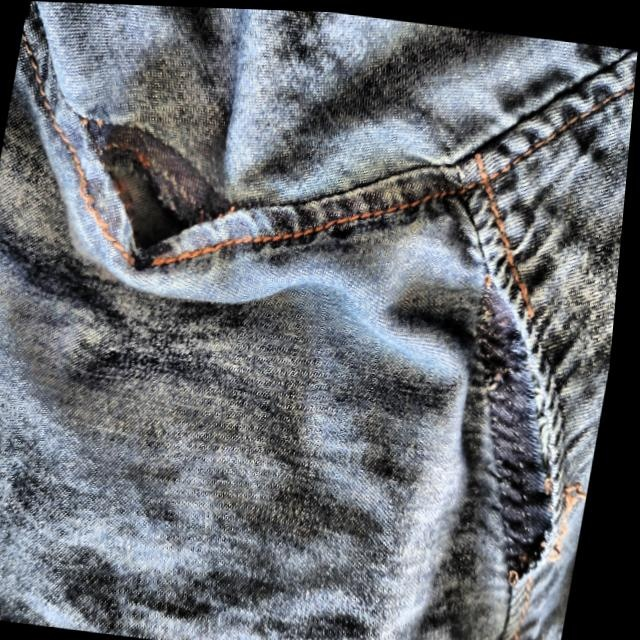seam: (398, 259, 623, 611), (23, 65, 321, 322)
